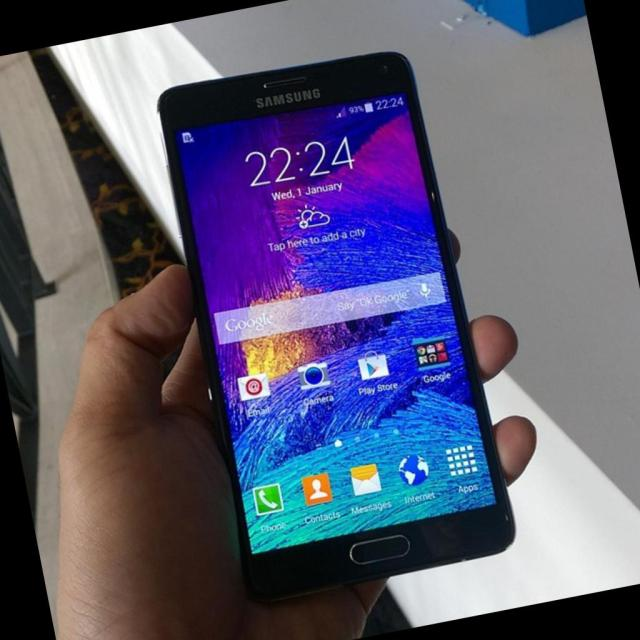handphone: (156, 58, 516, 572)
